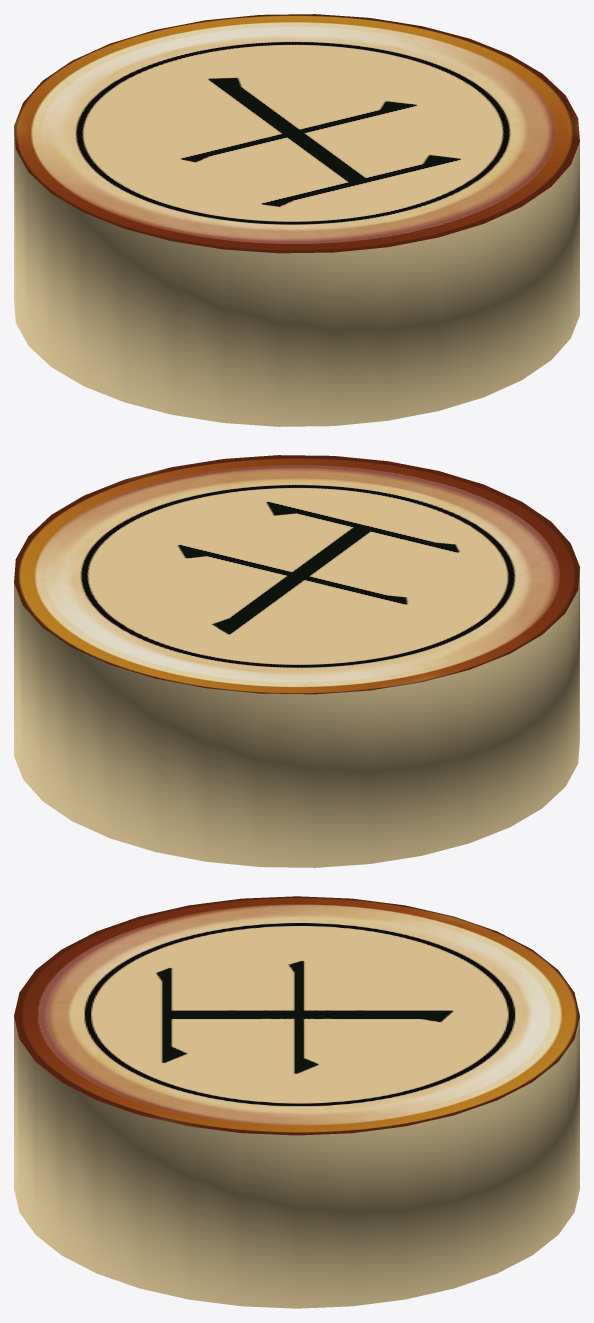
The model's file is sy_den.fbx.
3 renders of one model, top to bottom at view 1: azimuth 30°, elevation 25°; view 2: azimuth 150°, elevation 25°; view 3: azimuth 270°, elevation 25°, orthographic.
Parts seen in each view (by area): view 1: Cylinder.007; view 2: Cylinder.007; view 3: Cylinder.007.
Part boxes in pixels (x1,y1,x2,y2): Cylinder.007: (14, 14, 579, 426); Cylinder.007: (14, 455, 579, 867); Cylinder.007: (14, 896, 579, 1308).
Bounding box in the file's own units: 200 × 67.52 × 200.
